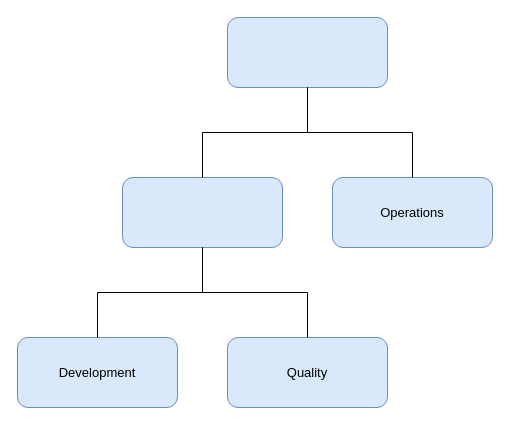
Image size: 510x425. Some labels were removed from this diagram. Here are the shapes that lost their labels. From the top down, the box of each, then its label:
(226, 16, 388, 88): CEO
(122, 176, 282, 248): Engineering
